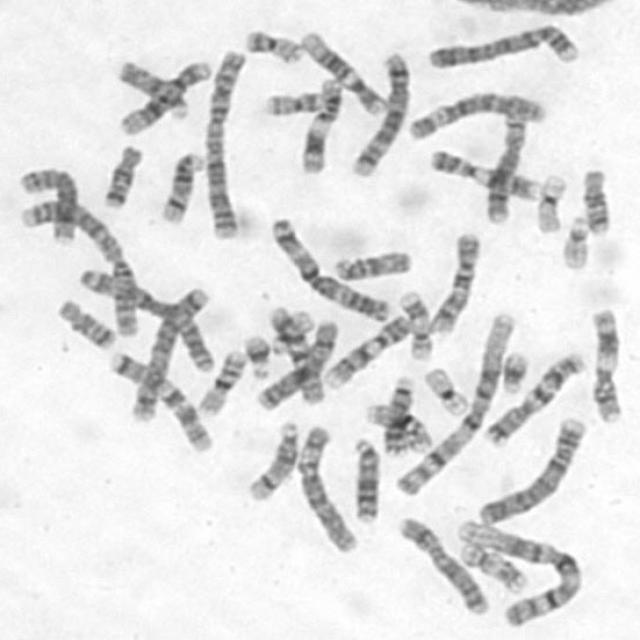A1: (390, 308, 519, 500), (452, 516, 584, 627)
A2: (16, 195, 144, 341), (200, 46, 248, 240)
A3: (74, 264, 216, 374), (266, 214, 391, 322)
B4: (472, 412, 588, 527), (424, 20, 583, 71)
B5: (126, 281, 212, 423), (346, 48, 412, 178)
C10: (426, 228, 483, 336), (266, 304, 326, 406)
C11: (296, 74, 345, 176), (585, 305, 624, 424)
C12: (296, 27, 387, 118), (114, 57, 214, 136)
C6: (294, 421, 361, 554), (403, 87, 546, 143)
C7: (104, 348, 214, 453), (480, 348, 588, 448)
C8: (480, 106, 531, 226), (15, 162, 79, 245)
C9: (320, 312, 412, 390), (423, 145, 541, 203)
D13: (377, 374, 416, 458), (347, 434, 382, 524)
D14: (244, 416, 300, 502), (156, 148, 206, 224)
D15: (114, 58, 190, 120), (328, 246, 414, 282)
E16: (360, 399, 434, 454), (192, 346, 248, 418)
E17: (456, 539, 528, 595), (396, 287, 434, 362)
E18: (54, 295, 118, 351), (98, 140, 145, 210), (580, 165, 612, 237)
F19: (420, 362, 470, 418), (533, 170, 568, 234)
F20: (242, 26, 304, 66), (259, 85, 329, 116)
G21: (496, 348, 531, 395), (242, 331, 272, 380)
G22: (265, 304, 316, 356), (556, 212, 592, 272)
X: (394, 512, 491, 616), (252, 316, 340, 413)
